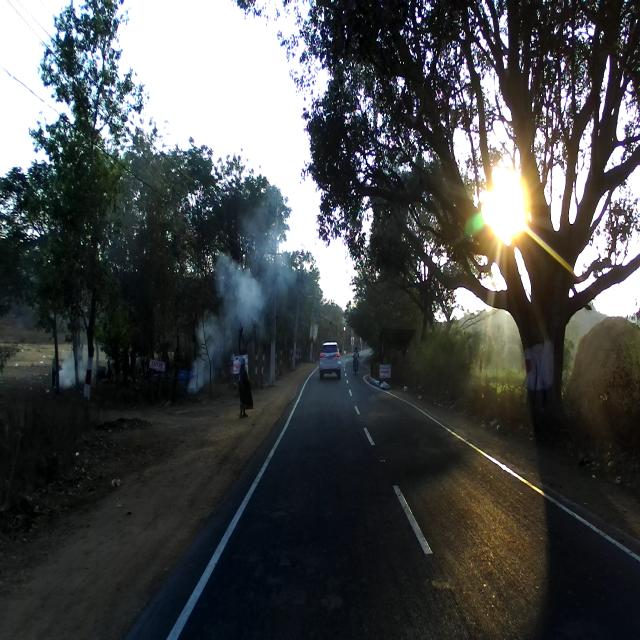tree ahead at: (487, 206, 592, 424)
